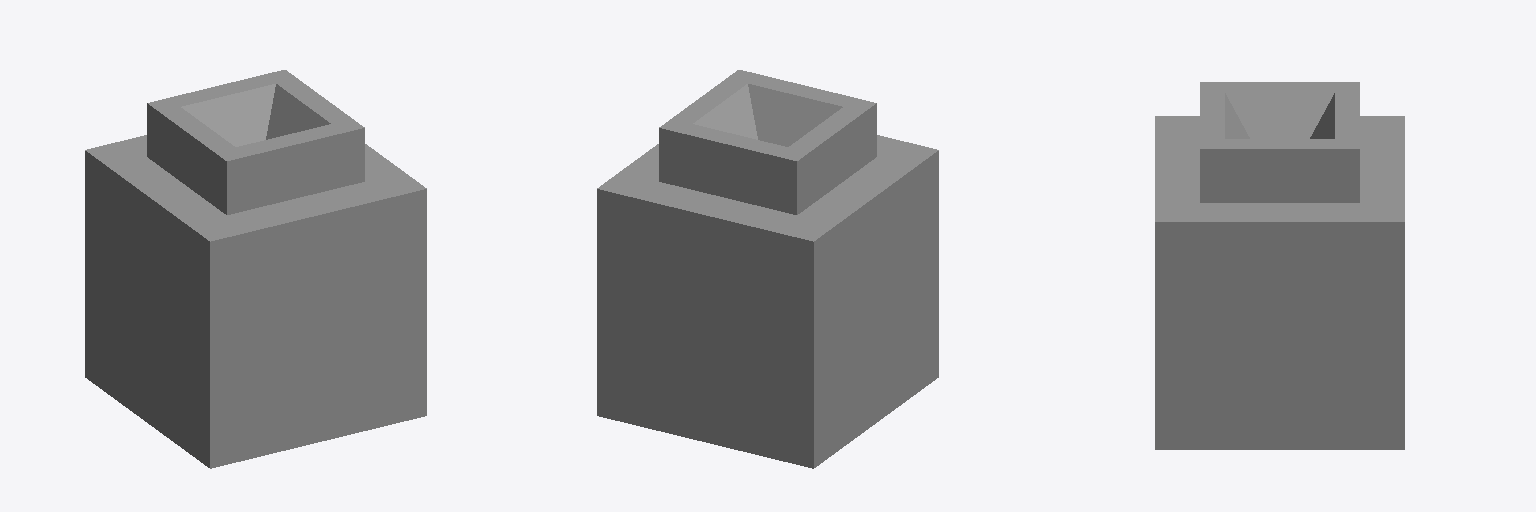
File: pot.obj
The picture shows the model from 3 angles: view 1: azimuth 30°, elevation 25°; view 2: azimuth 150°, elevation 25°; view 3: azimuth 270°, elevation 25°; orthographic projection.
Visible parts, largest first — view 1: Cube; view 2: Cube; view 3: Cube.
Part boxes in pixels (x1,y1,x2,y2): Cube: (85,70,426,468); Cube: (597,70,938,468); Cube: (1155,82,1404,449).
Size of the model in its own units: 0.4595 by 0.5686 by 0.4595.